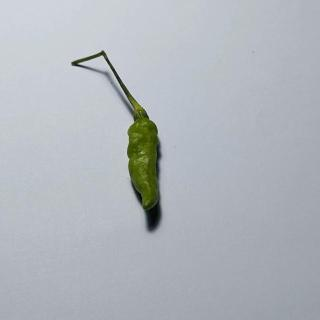Cabai Hijau: (70, 50, 166, 220)
